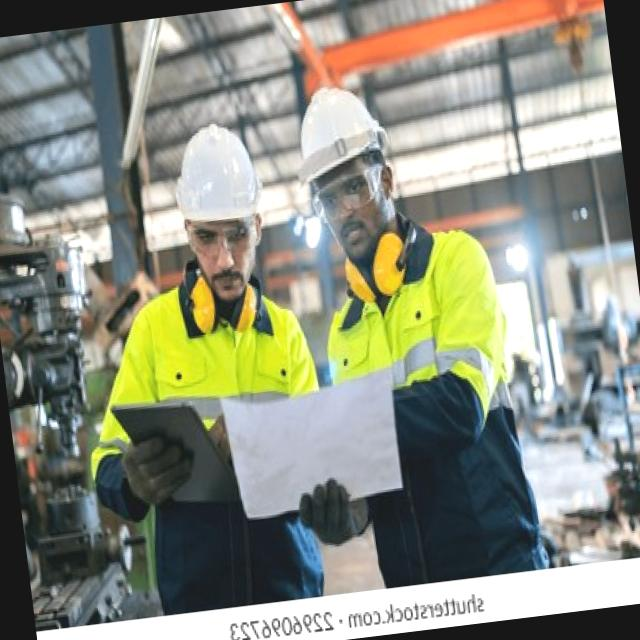goggles: (300, 141, 402, 234), (182, 192, 268, 266)
helmet: (154, 119, 281, 274), (285, 69, 408, 214)
vest: (316, 239, 522, 568), (128, 278, 328, 605)
